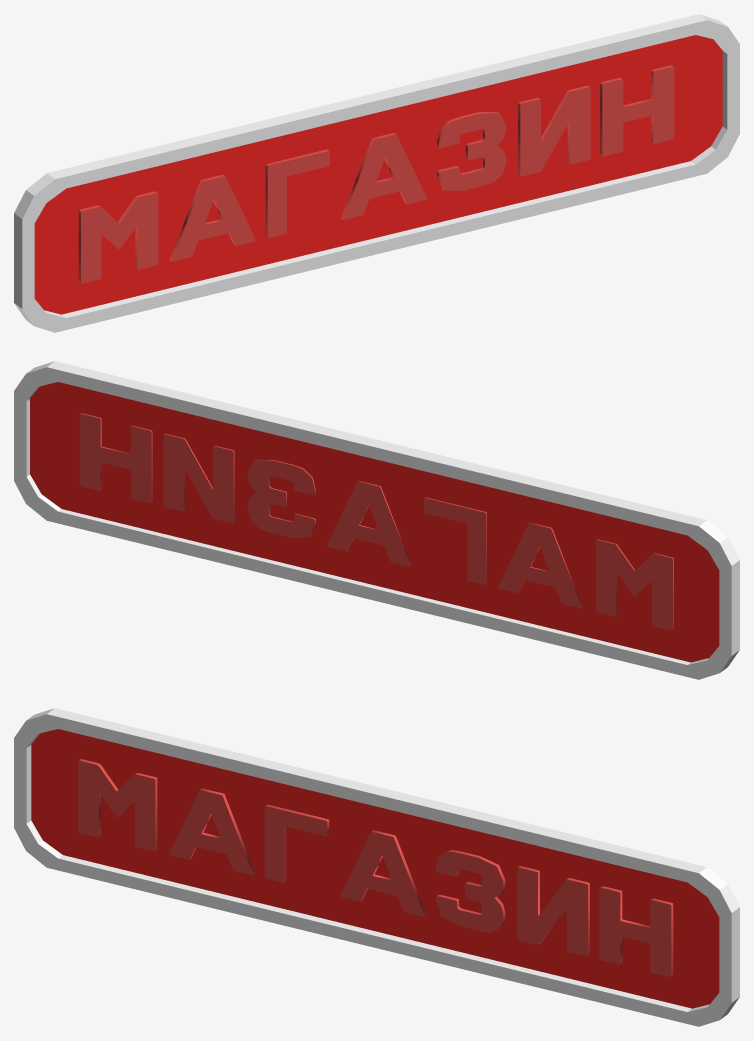
Rendered from BilboardsMagazineRUS.fbx.
The picture shows the model from 3 angles, top to bottom: view 1: azimuth 30°, elevation 25°; view 2: azimuth 150°, elevation 25°; view 3: azimuth 330°, elevation 25°; orthographic projection.
Parts seen in each view (by area): view 1: TwoMagazine, Text; view 2: TwoMagazine, Text; view 3: TwoMagazine, Text.
Boxes of the visible parts, x1,y1,x2,y2 form: TwoMagazine: [14, 14, 739, 332]; Text: [78, 65, 674, 283]; TwoMagazine: [14, 361, 739, 679]; Text: [79, 413, 673, 630]; TwoMagazine: [14, 708, 739, 1026]; Text: [78, 759, 673, 976].
Bounding box in the file's own units: 15 × 3.07 × 0.3.
